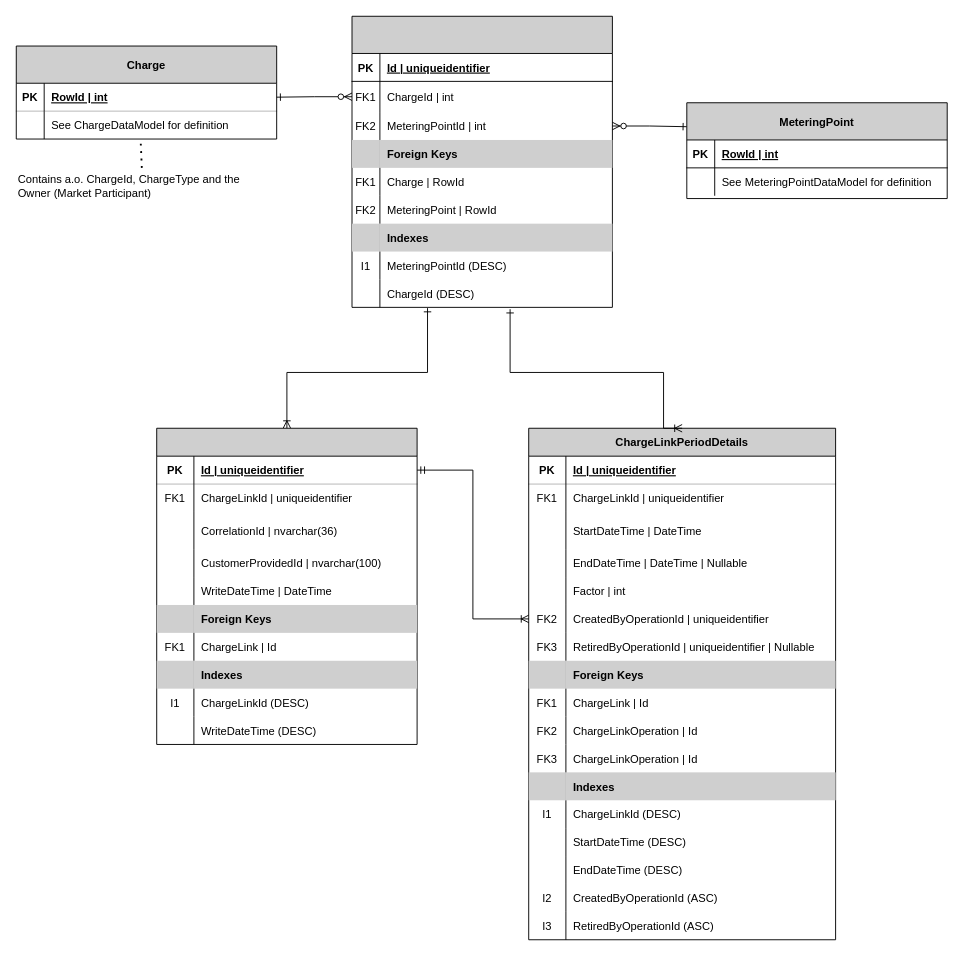
Image size: 963x956. Some labels were removed from this diagram. The shapes that lost their labels are listed below. From the top down, each one's box as (x1, y1, x2, y2) in pixels, then its label:
(351, 15, 612, 307): ChargeLink
(156, 427, 417, 744): ChargeLinkOperation
